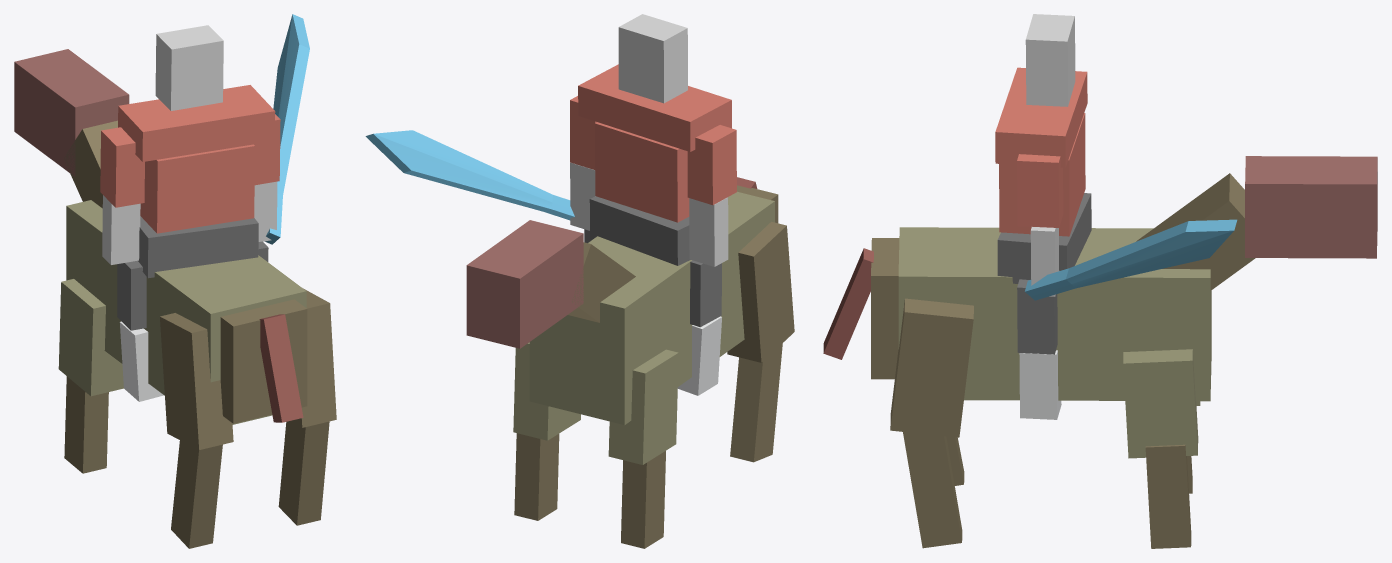
File: horseman.gltf
The picture shows the model from 3 angles, left to right: view 1: azimuth 30°, elevation 25°; view 2: azimuth 150°, elevation 25°; view 3: azimuth 270°, elevation 25°; orthographic projection. The views are drawn at different scales.
Parts seen in each view (by area): view 1: Cube (×22); view 2: Cube (×20); view 3: Cube (×18).
Boxes of the visible parts, x1,y1,x2,y2 form: Cube (×22): [14, 14, 336, 548]; Cube (×20): [365, 14, 794, 548]; Cube (×18): [823, 14, 1377, 548].
Size of the model in its own units: 7.1 by 11.14 by 11.51.
